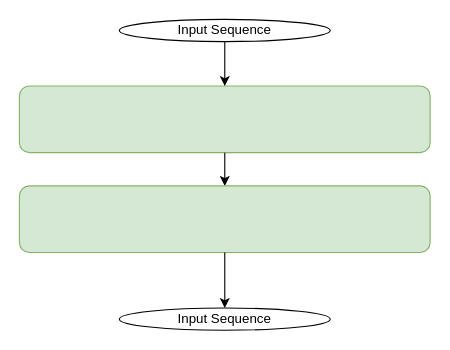
The diagram is 450 pixels wide and 350 high, and some of its shapes have lost their labels. Each missing label, with the centre of its shape:
"Decoder" belongs at point 224,219.
"Encoder" belongs at point 224,119.
